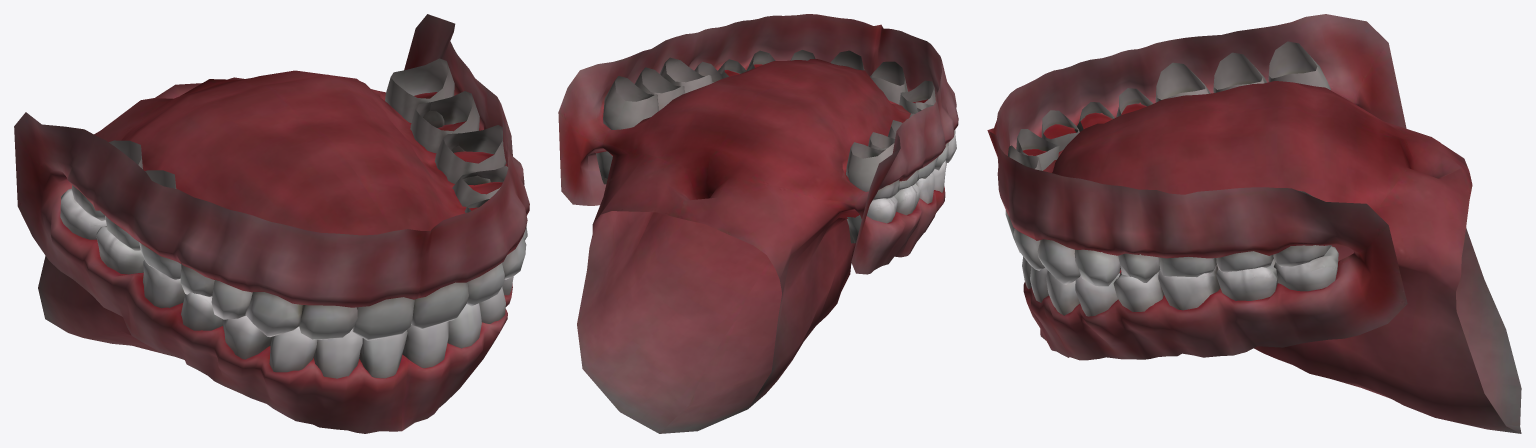
File: teeth.gltf
The picture shows the model from 3 angles, left to right: view 1: azimuth 30°, elevation 25°; view 2: azimuth 150°, elevation 25°; view 3: azimuth 270°, elevation 25°; orthographic projection. The views are drawn at different scales.
Visible parts, largest first — view 1: teeth; view 2: teeth; view 3: teeth.
Boxes of the visible parts, x1=… form: teeth: x1=14, y1=14, x2=529, y2=433; teeth: x1=558, y1=14, x2=958, y2=433; teeth: x1=987, y1=14, x2=1521, y2=433.
Bounding box in the file's own units: 0.0617 × 0.0492 × 0.0741.
Materials: 1 (1 with a texture image).
